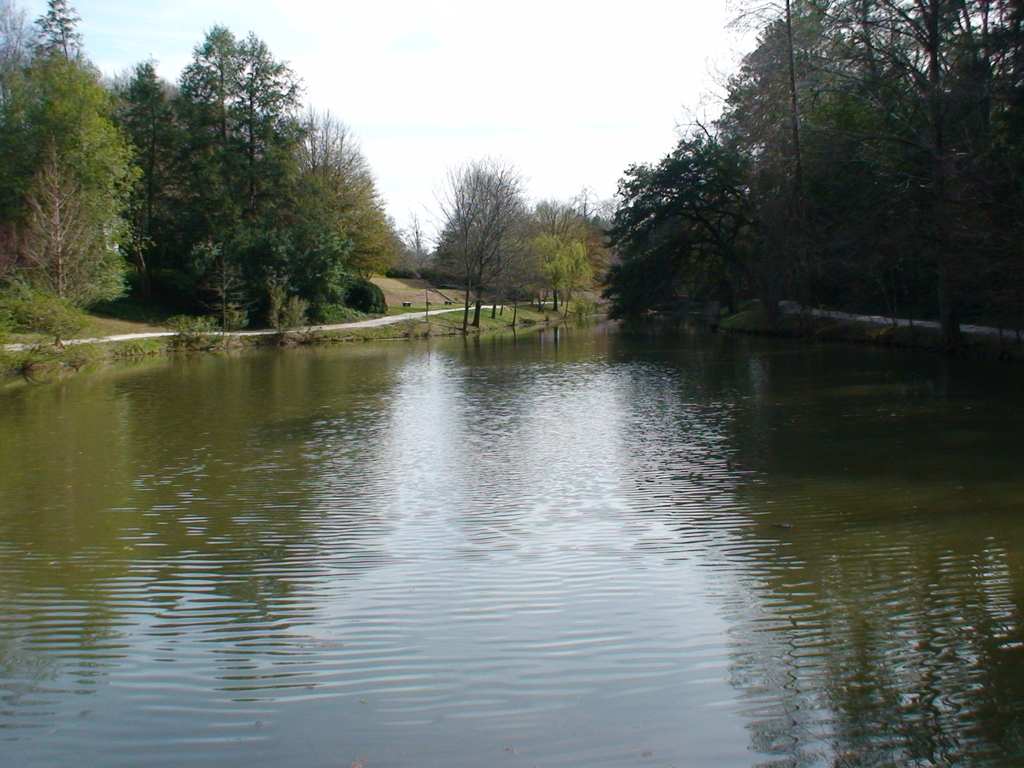Tree: (392, 0, 1023, 354), (96, 36, 392, 341), (0, 0, 139, 358)
